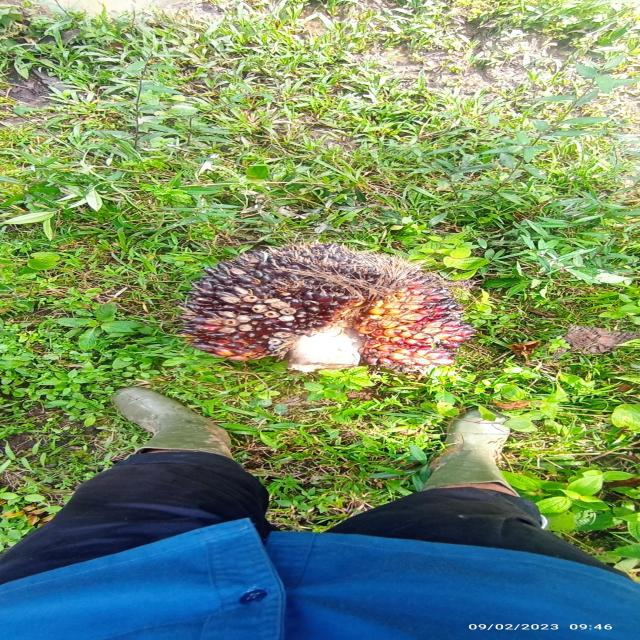fraksi 00: (172, 241, 482, 384)
